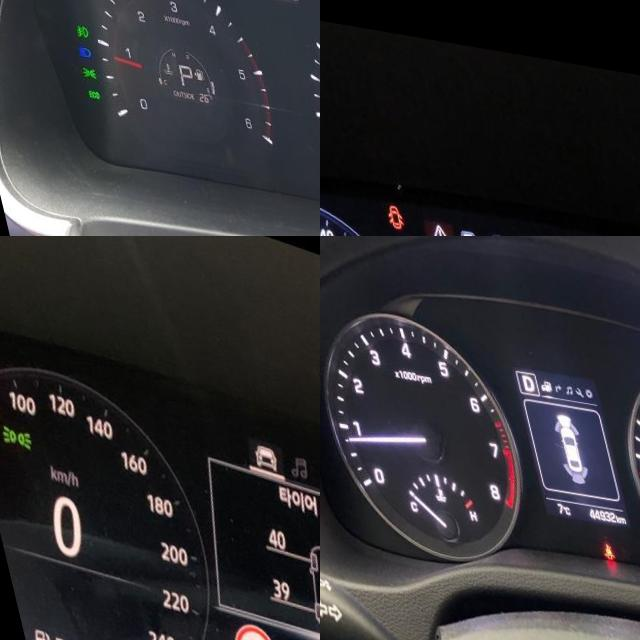Doors: (376, 196, 395, 222)
FrontFogLight: (57, 18, 72, 35)
SideLamp: (0, 418, 23, 450), (61, 61, 77, 75)
